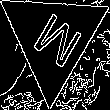M_SW: (24, 5, 83, 73)
